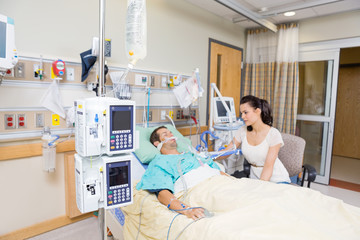monitoring system: (76, 100, 139, 213)
patient: (230, 95, 301, 181), (151, 125, 188, 186)
